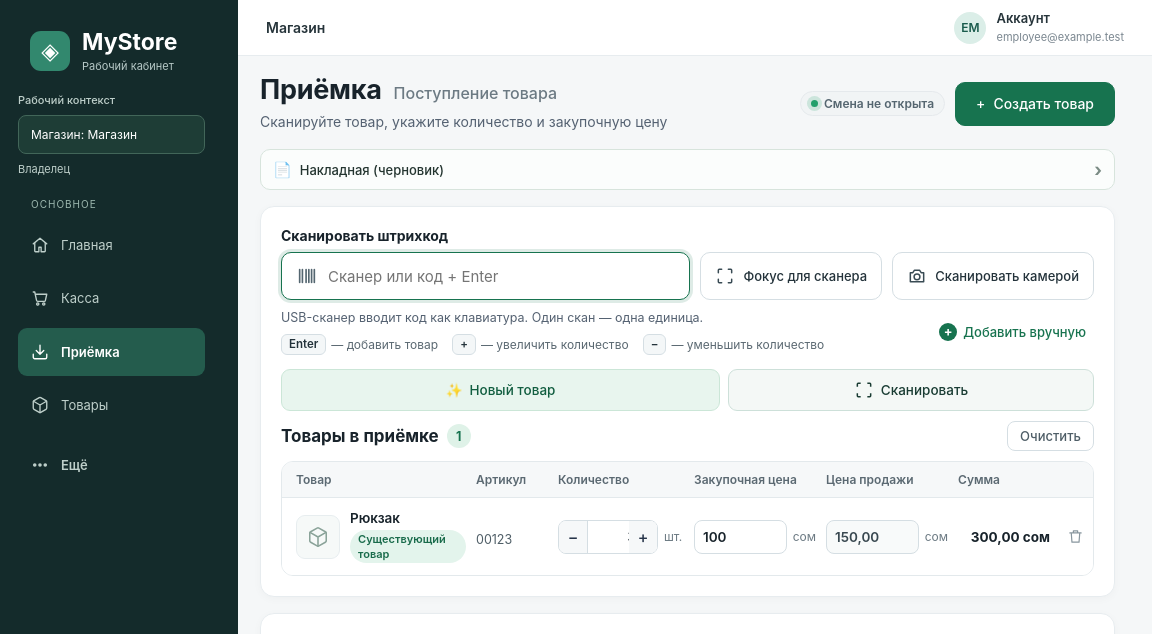
Test: failed creation keeps entered fields and does not change the receipt
In the field labelled "Сканировать штрихкод": (502,276) [328,257,675,296], type "0009876543210"
Then press Enter
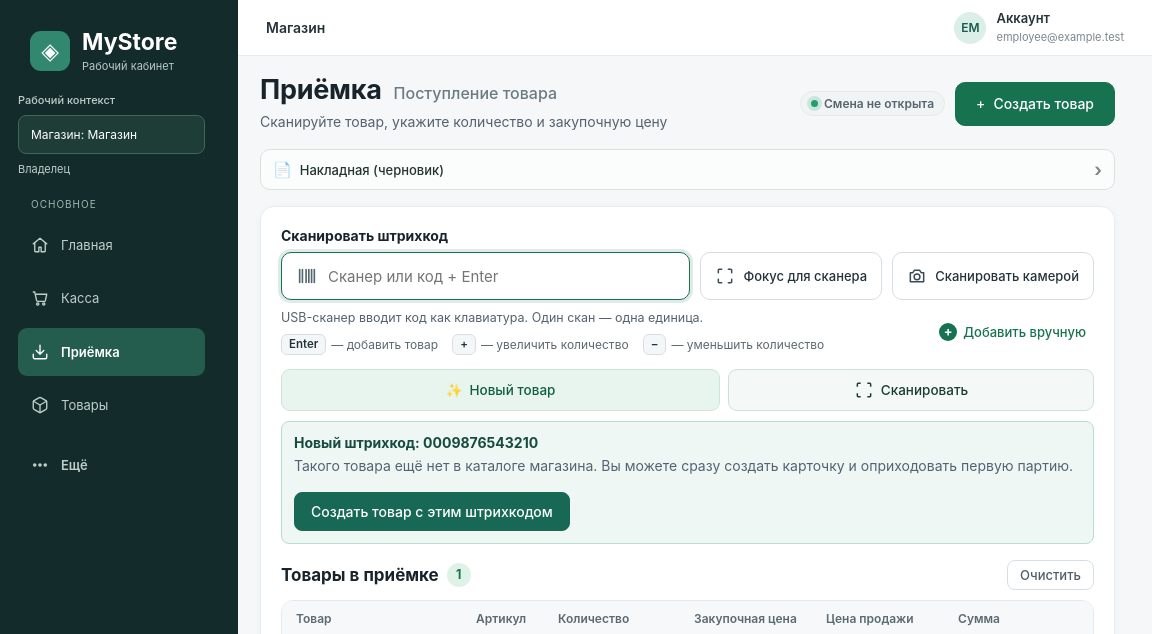
Click the button "Создать товар с этим штрихкодом": (432,511) [294,492,570,531]
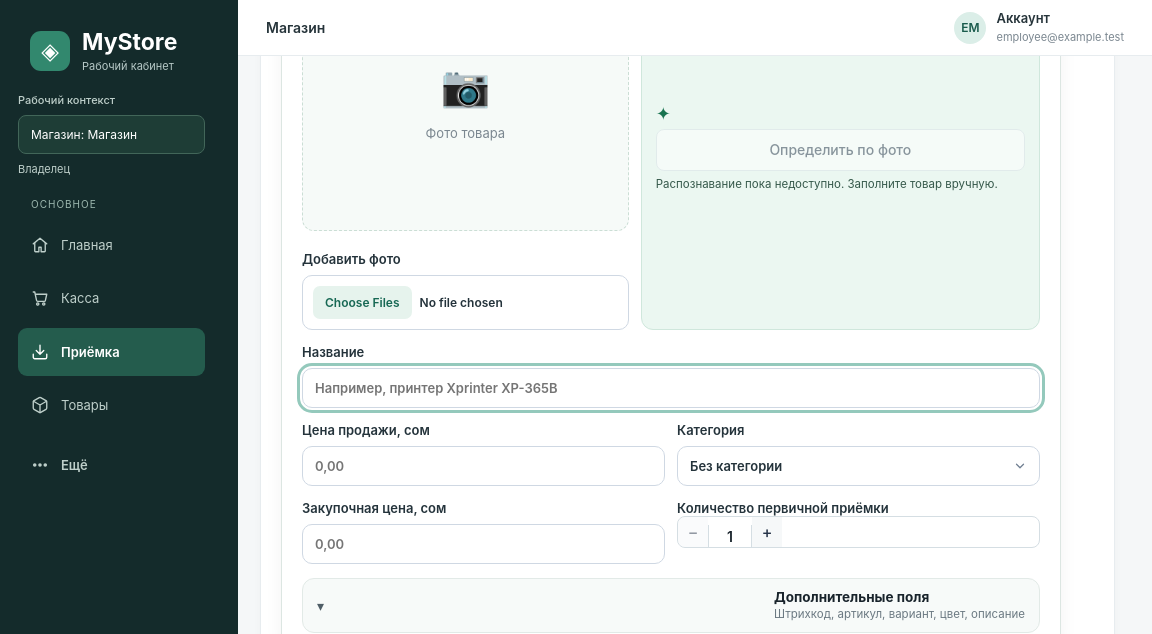
In the field labelled "Название": (671,388) [302,368,1040,408], type "Принтер"
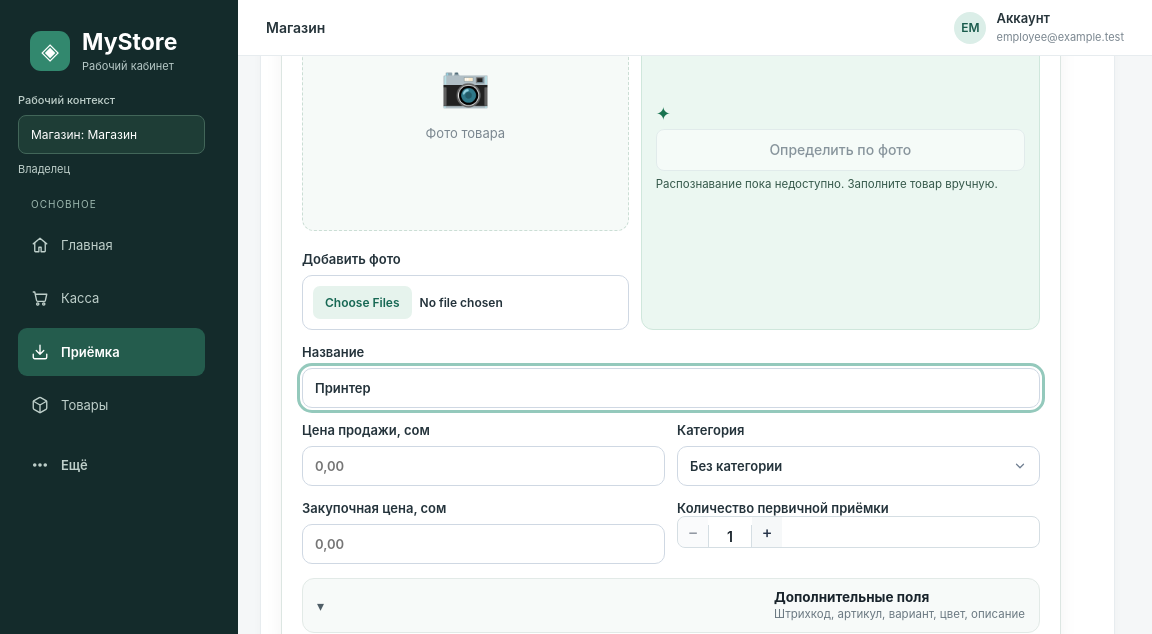
In the field labelled "Цена продажи, сом": (484,466) [302,446,665,486], type "2000"
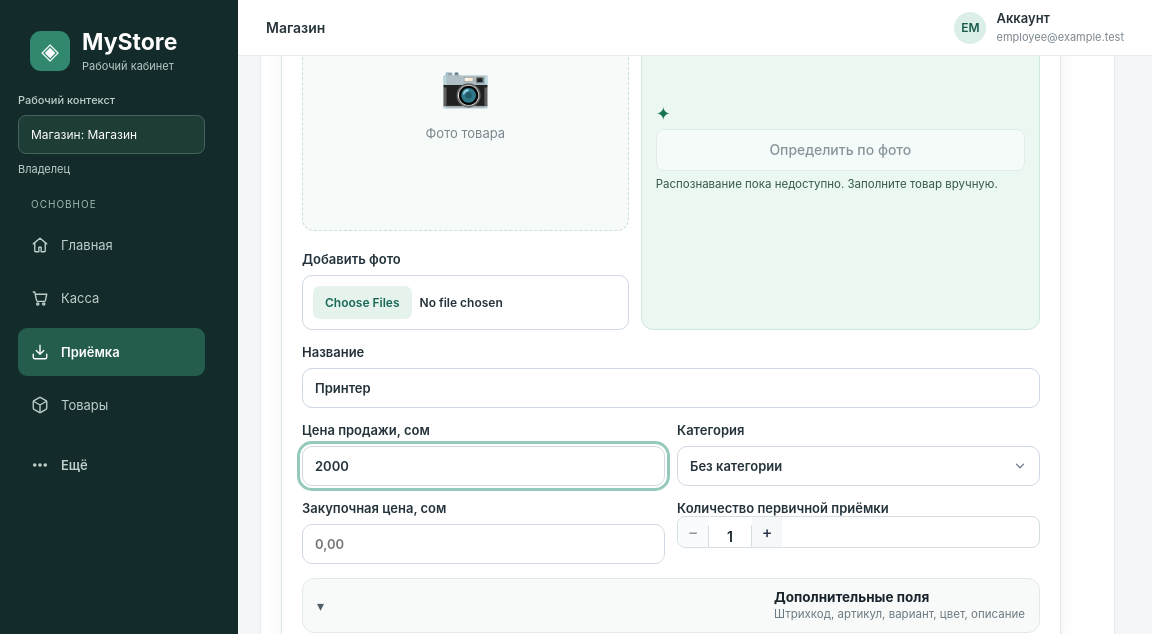
In the field labelled "Закупочная цена, сом": (484,544) [302,524,665,564], type "1500"
(page scrolled)
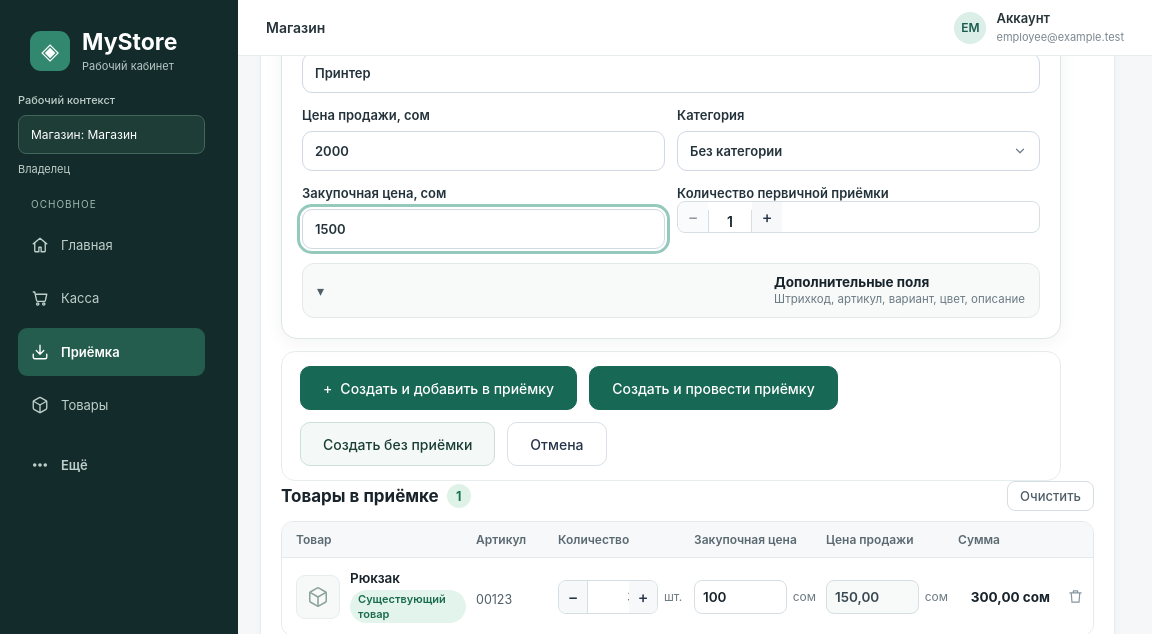
Click the button "Создать и провести приёмку": (713,388) [589,366,838,410]
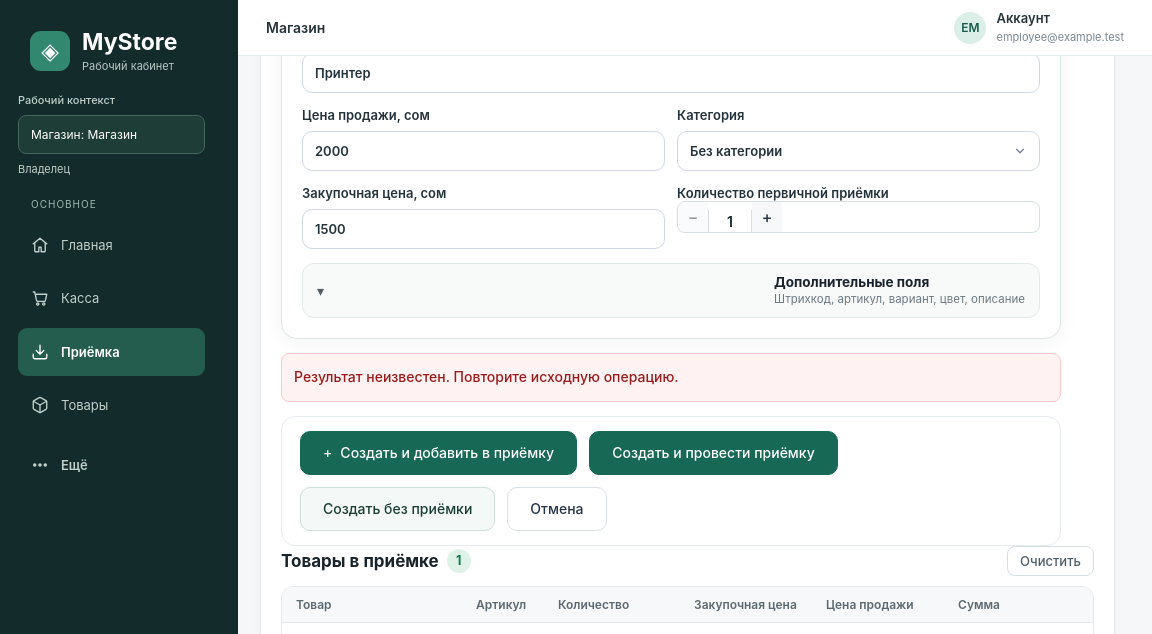
Now the message "Результат неизвестен. Повторите исходную операцию." is shown, box [281,353,1061,402]
